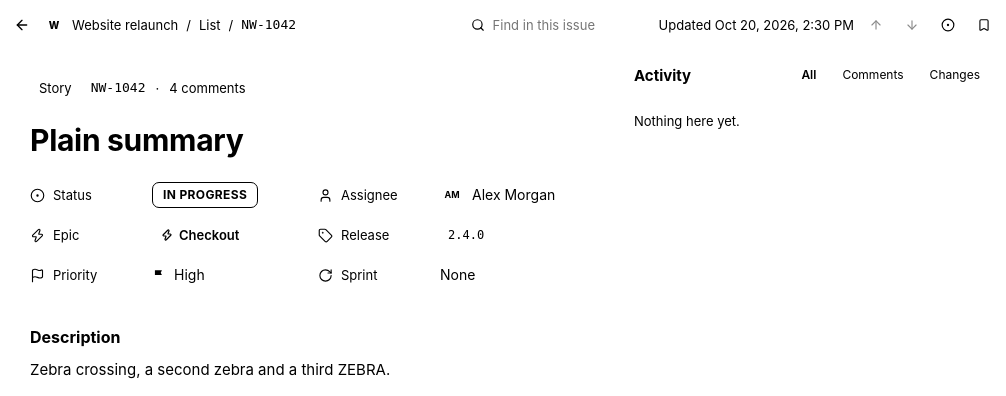
Test case: Find in this issue › counts the matches of the typed words, the first one current
Expected: the heading "Plain summary" is shown, [30, 122, 243, 158]
Type "zebra" into the field labelled "Find in this issue" at [546, 25], box [491, 15, 601, 35]
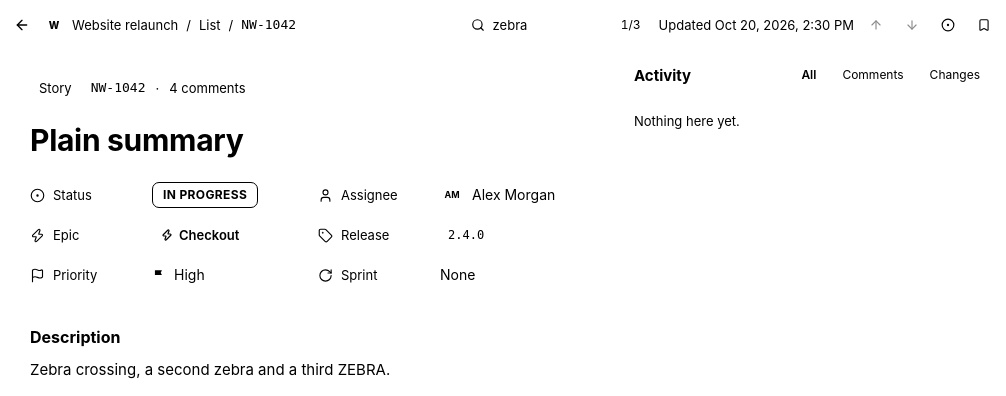
Now the text "1/3" is shown, box [621, 17, 641, 32]
